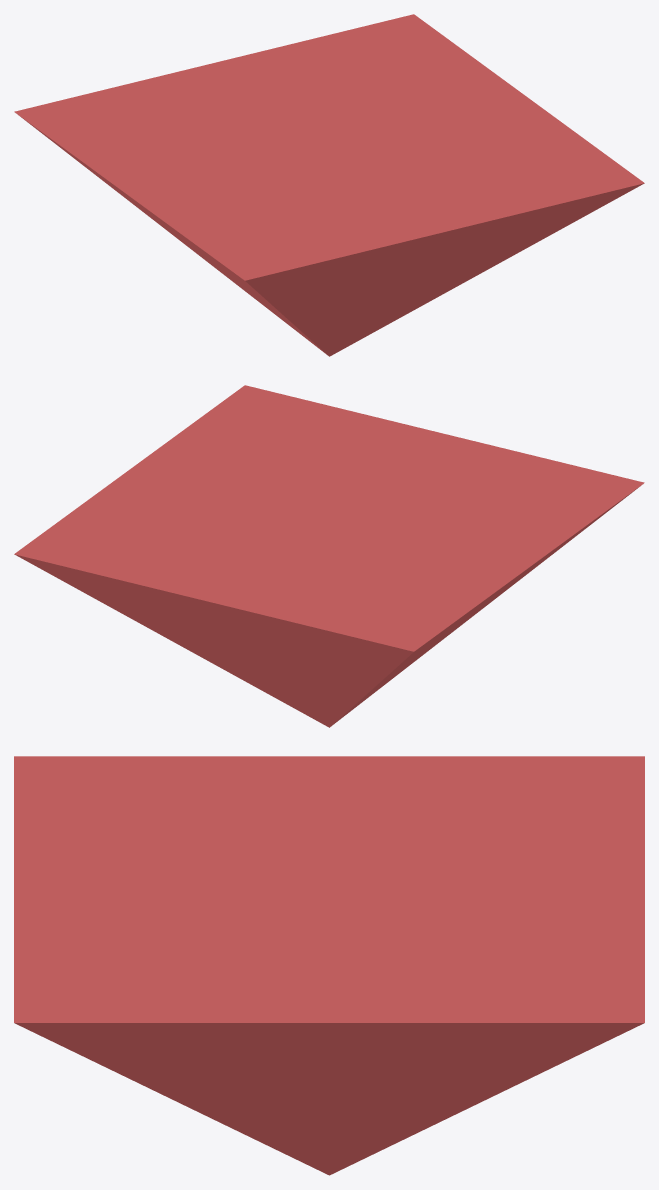
The model's file is km2_rift01.glb.
3 views of the same model, one above another, from view 1: azimuth 30°, elevation 25°; view 2: azimuth 150°, elevation 25°; view 3: azimuth 270°, elevation 25° (orthographic). The views are drawn at different scales.
Visible parts, largest first — view 1: km2_rift01_col; view 2: km2_rift01_col; view 3: km2_rift01_col.
Part boxes in pixels (x1,y1,x2,y2): km2_rift01_col: (14, 14, 644, 356); km2_rift01_col: (14, 385, 644, 727); km2_rift01_col: (14, 756, 644, 1175).
Bounding box in the file's own units: 6 × 3 × 6.
